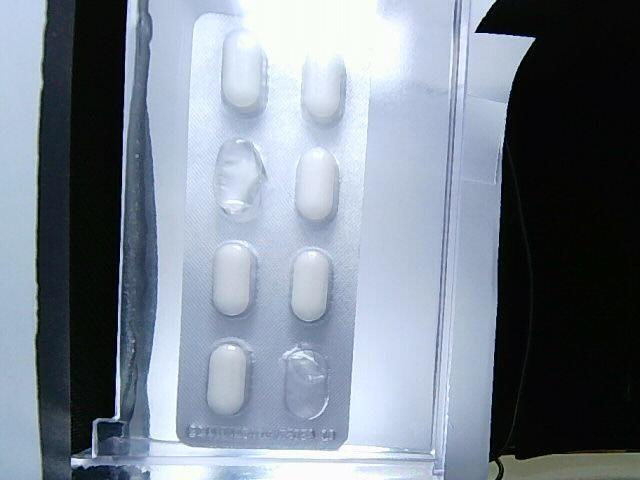Light Front: (178, 14, 374, 448)
No Pill Front: (213, 139, 268, 222), (283, 348, 329, 419)
Pill Front: (221, 30, 267, 114), (301, 47, 346, 124), (213, 241, 258, 316), (295, 148, 338, 223), (290, 249, 332, 322), (206, 344, 249, 415)
